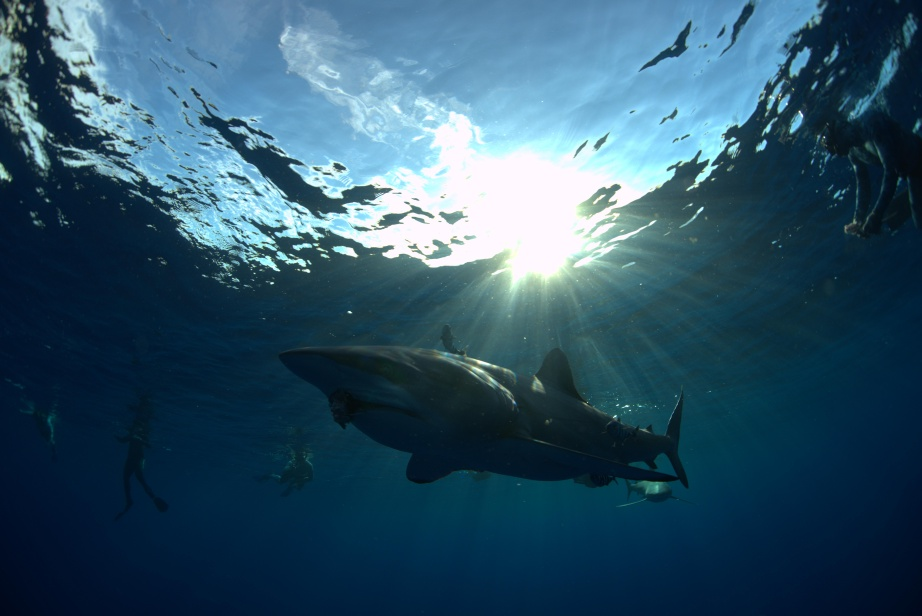Sedoso: (234, 324, 733, 512)
